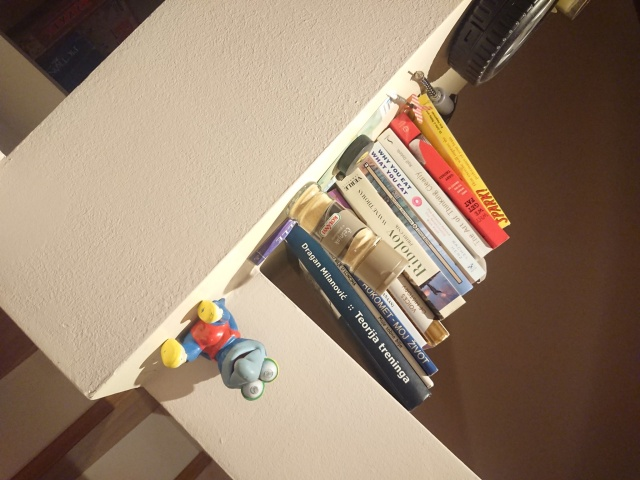Kotanyi Garlic Granules 70g: (284, 179, 411, 298)
